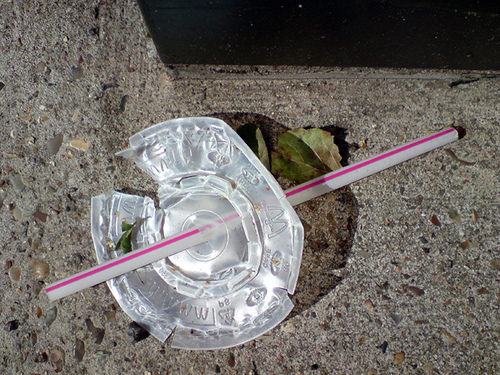litter: (42, 118, 304, 349), (305, 126, 459, 202)
